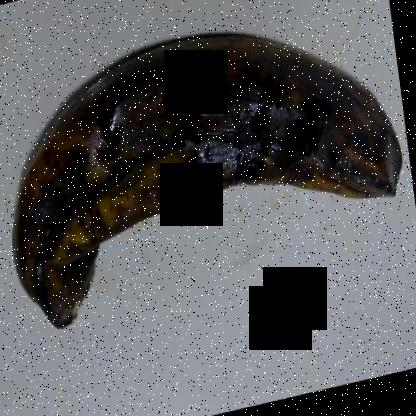rotten: (6, 17, 408, 336)
